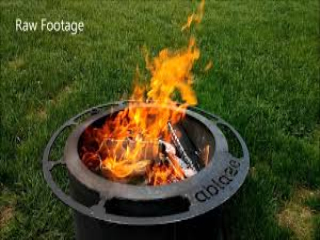fire: (89, 36, 215, 174), (175, 3, 204, 32)
